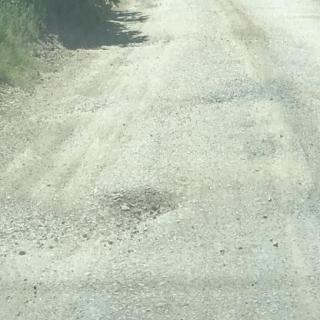pothole: (2, 204, 83, 252), (109, 191, 178, 225)
